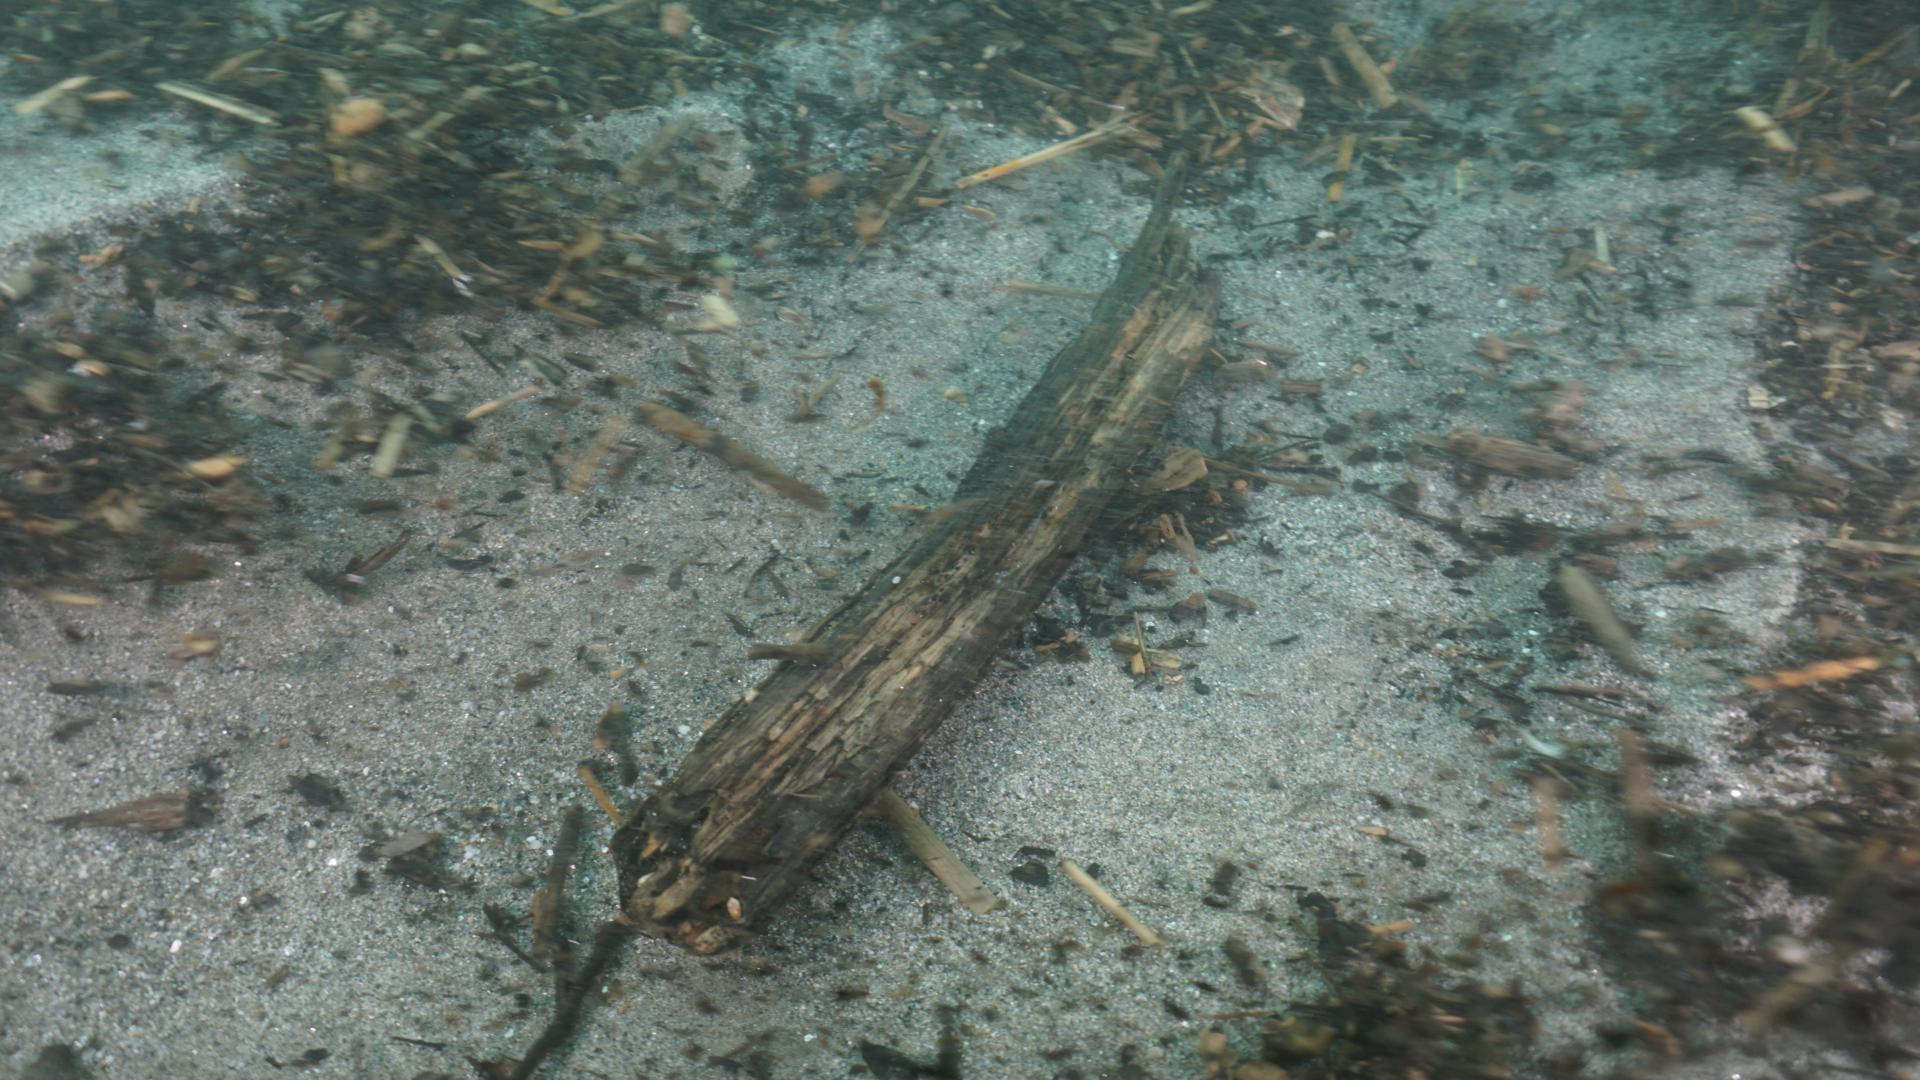wood: (609, 153, 1222, 956)
